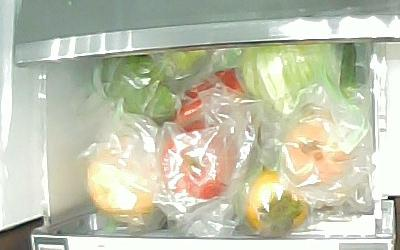apple_vinyl: (162, 129, 237, 200)
broccoli_vinyl: (92, 47, 210, 121)
grapefruit_vinyl: (86, 150, 155, 215)
lettuce_vinyl: (241, 42, 337, 110)
paprika_vinyl: (174, 67, 244, 133)
peach_vinyl: (280, 116, 354, 181)
persimmon_vinyl: (244, 169, 308, 235)
